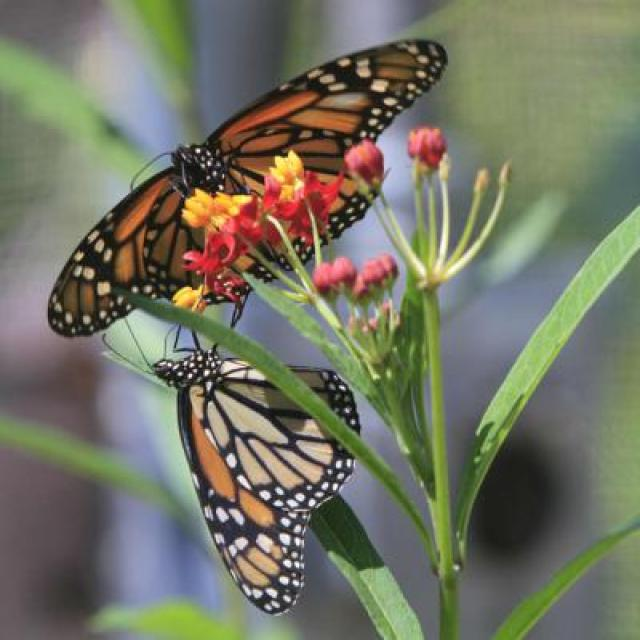antennae: (103, 311, 167, 381)
body: (167, 139, 253, 251), (151, 351, 245, 394)
insect: (48, 44, 443, 340), (126, 318, 359, 619)
legs: (170, 320, 237, 369)
wings: (216, 42, 447, 245), (178, 361, 362, 613), (53, 166, 259, 337)
